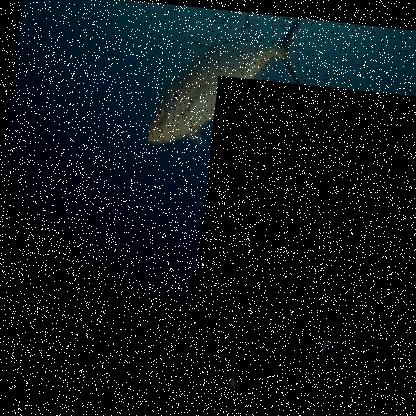white-shark: (189, 74, 415, 350)
